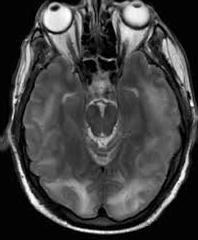Normal_Brain: (1, 1, 198, 240)
